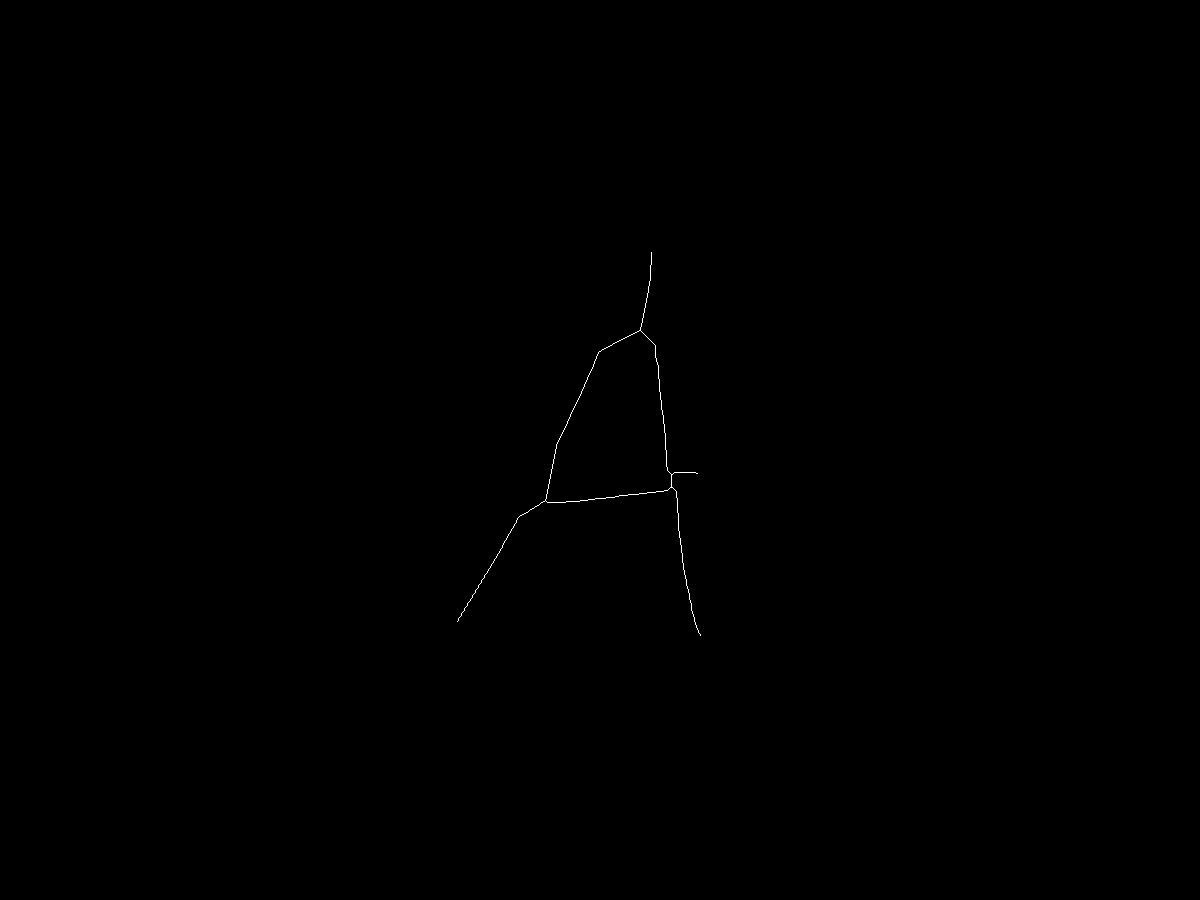dian1: (631, 327, 647, 343)
dian2: (537, 492, 555, 510)
dian3: (456, 609, 473, 626)
dian4: (658, 474, 692, 508)
dian5: (692, 631, 709, 648)
